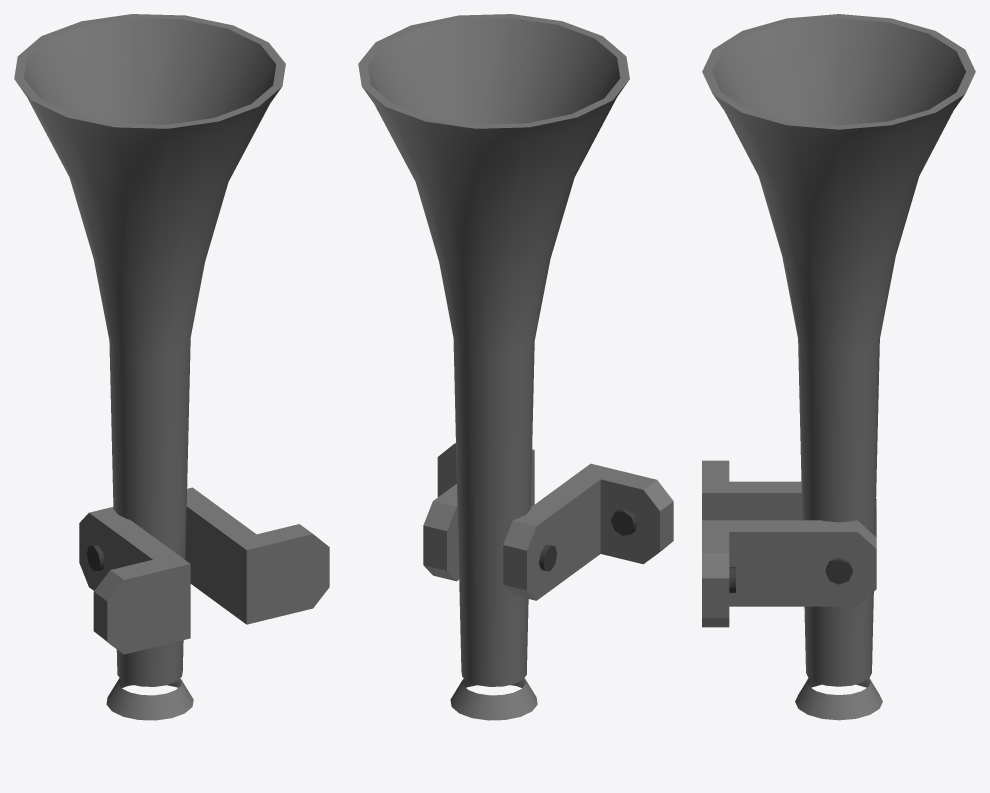
Rendered from Veh_LaBa_1X3_on.FBX.
3 views of the same model, side by side, from view 1: azimuth 30°, elevation 25°; view 2: azimuth 150°, elevation 25°; view 3: azimuth 270°, elevation 25° (orthographic).
Parts seen in each view (by area): view 1: Box001; view 2: Box001; view 3: Box001.
Boxes of the visible parts, bbox=[...] form: Box001: bbox=[14, 14, 329, 720]; Box001: bbox=[358, 14, 673, 720]; Box001: bbox=[702, 14, 975, 720].
Bounding box in the file's own units: 1 × 2.71 × 1.
